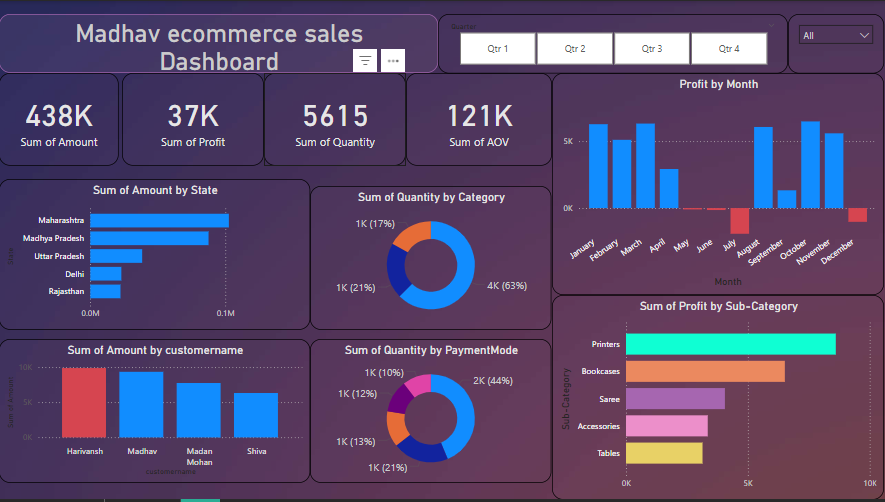

The page's visual inventory and layout, read from the dashboard file:
{"tool":"powerbi","page":{"name":"Page 1","canvas":[1280,720],"ordinal":0},"visuals":[{"type":"textbox","title":"Madhav ecommerce sales Dashboard","box":[0,18.8,634.7,85.3],"z":0},{"type":"columnChart","title":"Profit by Month","fields":{"Category":["Orders (1).Date.Variation.Date Hierarchy.Month"],"Y":["Details (1).Profit"]},"box":[799.6,104.1,480.4,320.8],"z":1000},{"type":"barChart","fields":{"Category":["Details (1).Sub-Category"],"Y":["Details (1).Profit"]},"box":[799.6,425,480.4,295.6],"z":2000},{"type":"donutChart","fields":{"Y":["Details (1).Quantity"],"Category":["Details (1).PaymentMode"]},"box":[450.2,488.8,349.4,208.3],"z":3000},{"type":"donutChart","fields":{"Category":["Details (1).Category"],"Y":["Details (1).Quantity"]},"box":[450.2,267.1,349.4,208.3],"z":4000},{"type":"card","fields":{"Values":["Details (1).Quantity"]},"box":[383.1,104.1,205.3,134.5],"z":5000},{"type":"card","fields":{"Values":["Details (1).Amount"]},"box":[0,104.1,173.5,134.5],"z":6000},{"type":"card","fields":{"Values":["Details (1).Profit"]},"box":[177.8,104.1,205.3,134.5],"z":7000},{"type":"card","fields":{"Values":["Details (1).AOV"]},"box":[588.4,104.1,211.1,134.5],"z":8000},{"type":"barChart","fields":{"Y":["Details (1).Amount"],"Category":["Orders (1).State"]},"box":[0,257,450.2,218.4],"z":9000},{"type":"columnChart","fields":{"Category":["Orders (1).customername"],"Y":["Details (1).Amount"]},"box":[0,488.8,450.2,208.3],"z":10000},{"type":"slicer","fields":{"Values":["Orders (1).Date.Variation.Date Hierarchy.Quarter"]},"box":[635,18.5,505.6,85.7],"z":10001},{"type":"slicer","title":"State","fields":{"Values":["Orders (1).State"]},"box":[1140.6,18.5,139.4,85.7],"z":10002}]}

Visuals, with their boxes in screenshot pixels (x1, y1, x2, y2), scaled from the page's 1280x720 canvas onto the 885x502 screenshot:
"Madhav ecommerce sales Dashboard" textbox: bbox(0, 13, 439, 73)
"Profit by Month" columnChart: bbox(553, 73, 884, 296)
barChart - Details (1).Sub-Category x Details (1).Profit: bbox(553, 296, 884, 501)
donutChart - Details (1).Quantity x Details (1).PaymentMode: bbox(311, 341, 553, 486)
donutChart - Details (1).Category x Details (1).Quantity: bbox(311, 186, 553, 331)
card - Details (1).Quantity: bbox(265, 73, 407, 166)
card - Details (1).Amount: bbox(0, 73, 120, 166)
card - Details (1).Profit: bbox(123, 73, 265, 166)
card - Details (1).AOV: bbox(407, 73, 553, 166)
barChart - Details (1).Amount x Orders (1).State: bbox(0, 179, 311, 331)
columnChart - Orders (1).customername x Details (1).Amount: bbox(0, 341, 311, 486)
slicer - Orders (1).Date.Variation.Date Hierarchy.Quarter: bbox(439, 13, 789, 73)
"State" slicer: bbox(789, 13, 884, 73)
